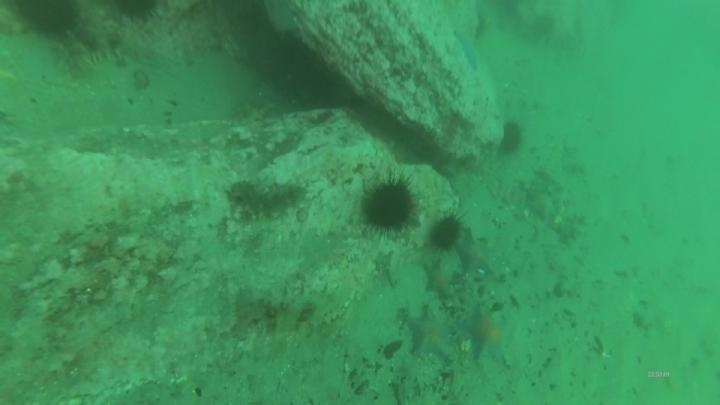echinus: (357, 174, 419, 237), (10, 1, 84, 41), (105, 0, 167, 27), (426, 212, 465, 253), (496, 119, 526, 157)
holothurian: (234, 282, 350, 337), (226, 176, 308, 221), (54, 29, 127, 76)
starfish: (458, 305, 515, 366), (402, 305, 460, 363), (453, 230, 499, 279), (420, 258, 459, 300), (452, 27, 484, 74)
